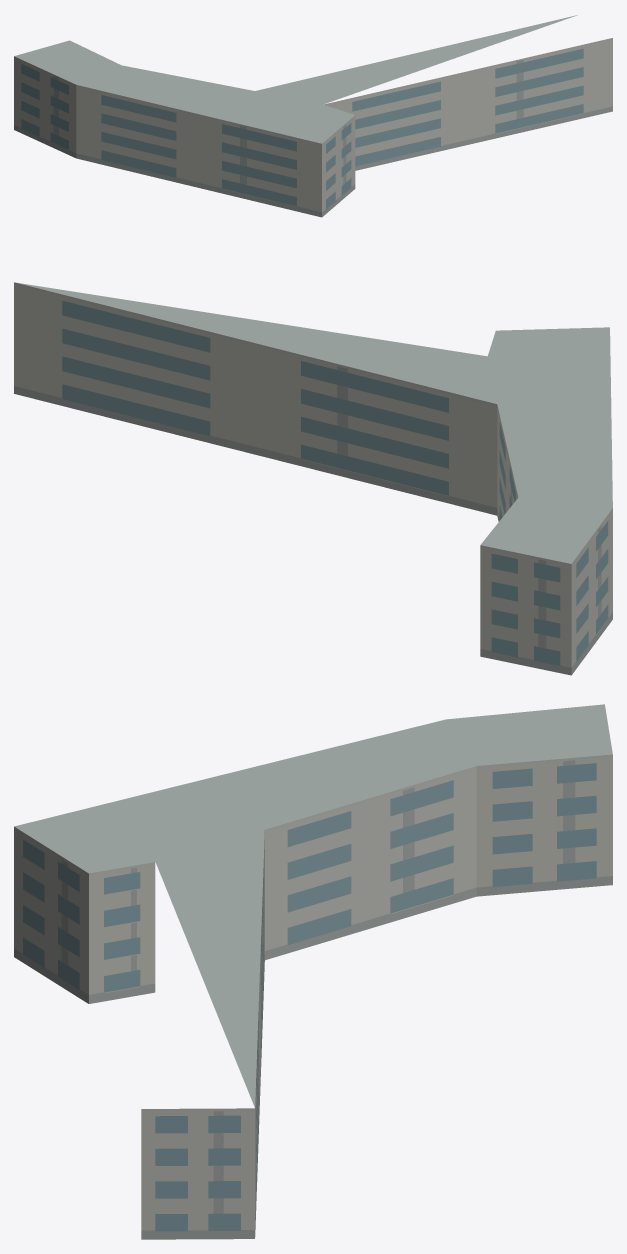
Rendered from residential-3ff3bbb3-ab2d-4b1c-906e-5ddb9c91c371.glb.
The picture shows the model from 3 angles, top to bottom: view 1: azimuth 30°, elevation 25°; view 2: azimuth 150°, elevation 25°; view 3: azimuth 270°, elevation 25°; orthographic projection. The views are drawn at different scales.
Parts seen in each view (by area): view 1: residential-3ff3bbb3-ab2d-4b1c-906e-5ddb9c91c371.tmp; view 2: residential-3ff3bbb3-ab2d-4b1c-906e-5ddb9c91c371.tmp; view 3: residential-3ff3bbb3-ab2d-4b1c-906e-5ddb9c91c371.tmp.
Boxes of the visible parts, x1=… form: residential-3ff3bbb3-ab2d-4b1c-906e-5ddb9c91c371.tmp: x1=14, y1=15, x2=612, y2=217; residential-3ff3bbb3-ab2d-4b1c-906e-5ddb9c91c371.tmp: x1=14, y1=282, x2=612, y2=675; residential-3ff3bbb3-ab2d-4b1c-906e-5ddb9c91c371.tmp: x1=14, y1=704, x2=612, y2=1239.
Size of the model in its own units: 81.08 by 12.2 by 50.71.
